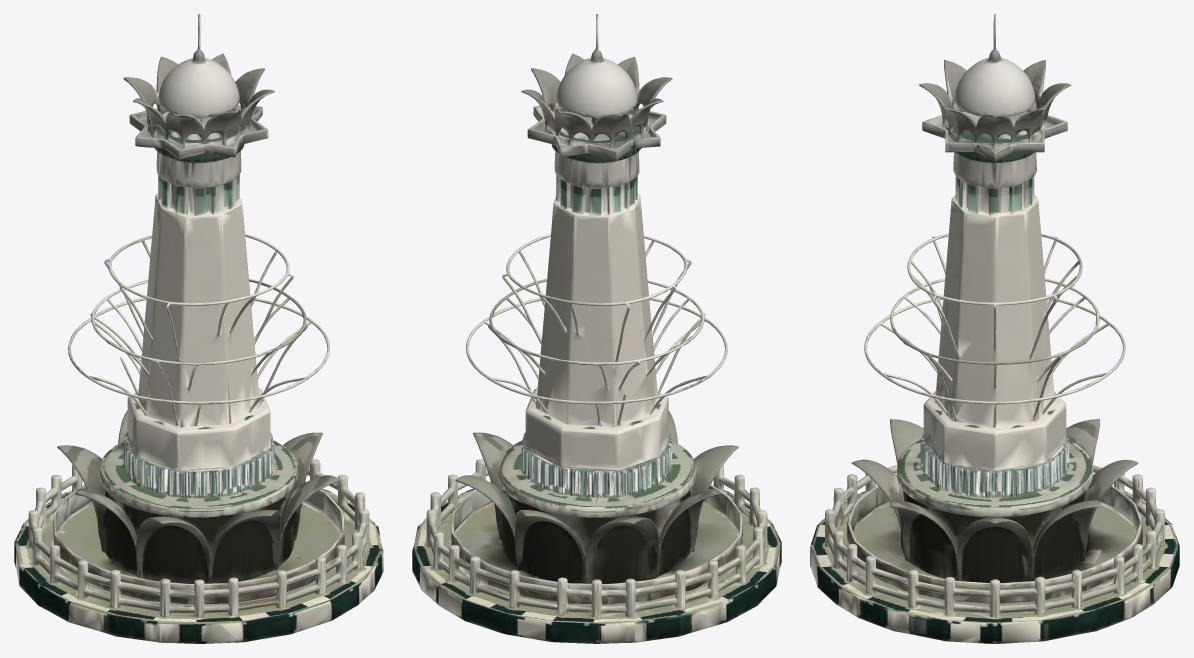
File: Tugu-Simpang-lima.glb
3 renders of one model, left to right at view 1: azimuth 30°, elevation 25°; view 2: azimuth 150°, elevation 25°; view 3: azimuth 270°, elevation 25°, orthographic.
Parts seen in each view (by area): view 1: node_0; view 2: node_0; view 3: node_0.
Boxes of the visible parts, x1,y1,x2,y2 form: node_0: [14, 14, 383, 643]; node_0: [412, 14, 781, 643]; node_0: [810, 14, 1179, 643].
Bounding box in the file's own units: 3.12 × 5.13 × 3.11.
Materials: 1 (1 with a texture image).
